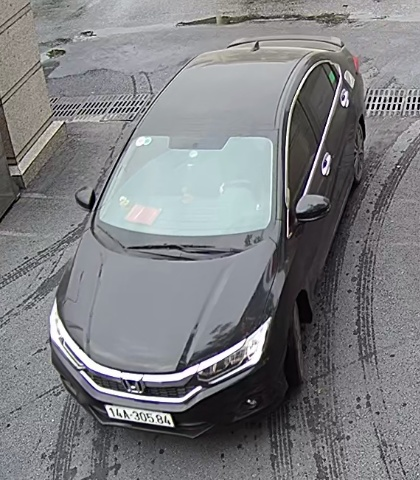vehicle plate: (104, 398, 174, 431)
